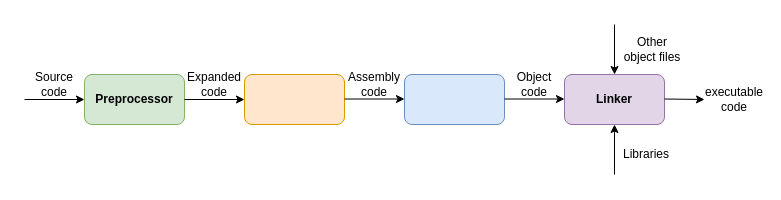
The diagram is 781 pixels wide and 200 high, and some of its shapes have lost their labels. Each missing label, with the centre of its shape:
Assembler: pixel 454 99
Compiler: pixel 294 99
